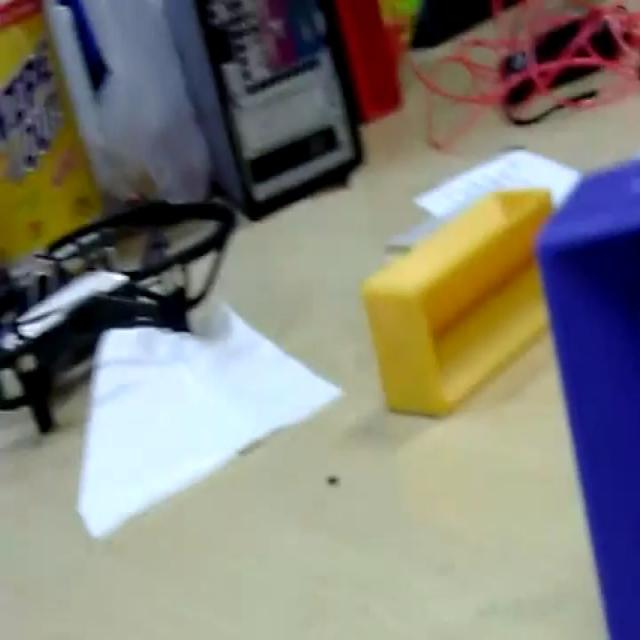blue_block: (532, 155, 638, 634)
yellow_block: (360, 184, 554, 417)
